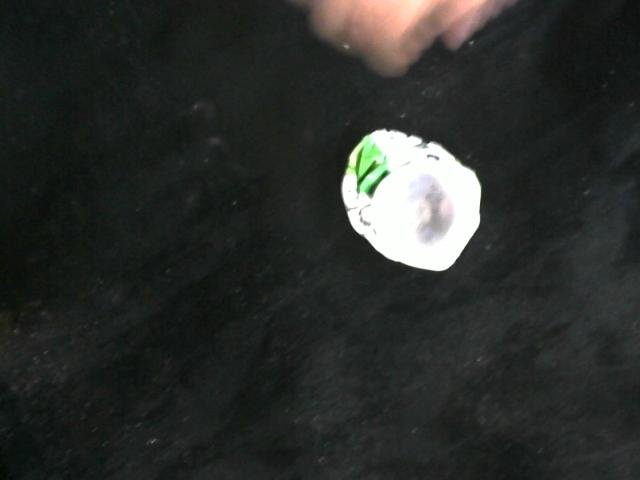can: (334, 125, 487, 283)
